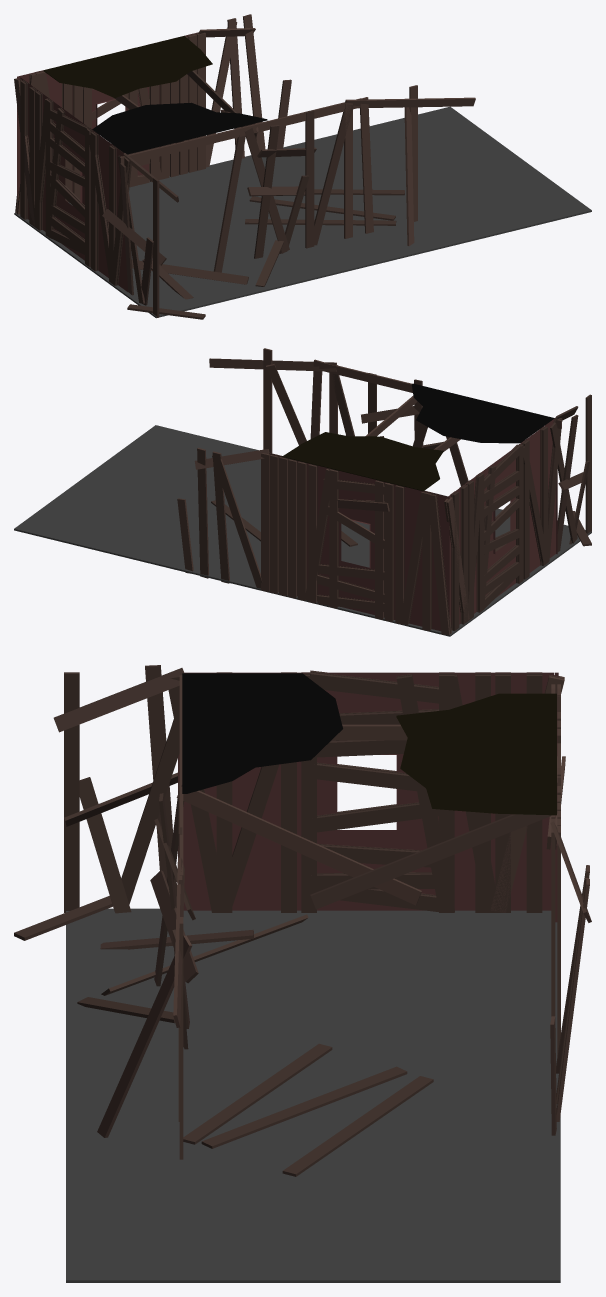
File: ruini.fbx
3 views of the same model, one above another, from view 1: azimuth 30°, elevation 25°; view 2: azimuth 150°, elevation 25°; view 3: azimuth 270°, elevation 25° (orthographic). The views are drawn at different scales.
Visible parts, largest first — view 1: Cube.014; view 2: Cube.014; view 3: Cube.014.
Part boxes in pixels (box(x1,y1,x2,y2)): Cube.014: box(14, 14, 591, 319); Cube.014: box(14, 348, 591, 636); Cube.014: box(14, 665, 591, 1282).
Bounding box in the file's own units: 590 × 183 × 376.
